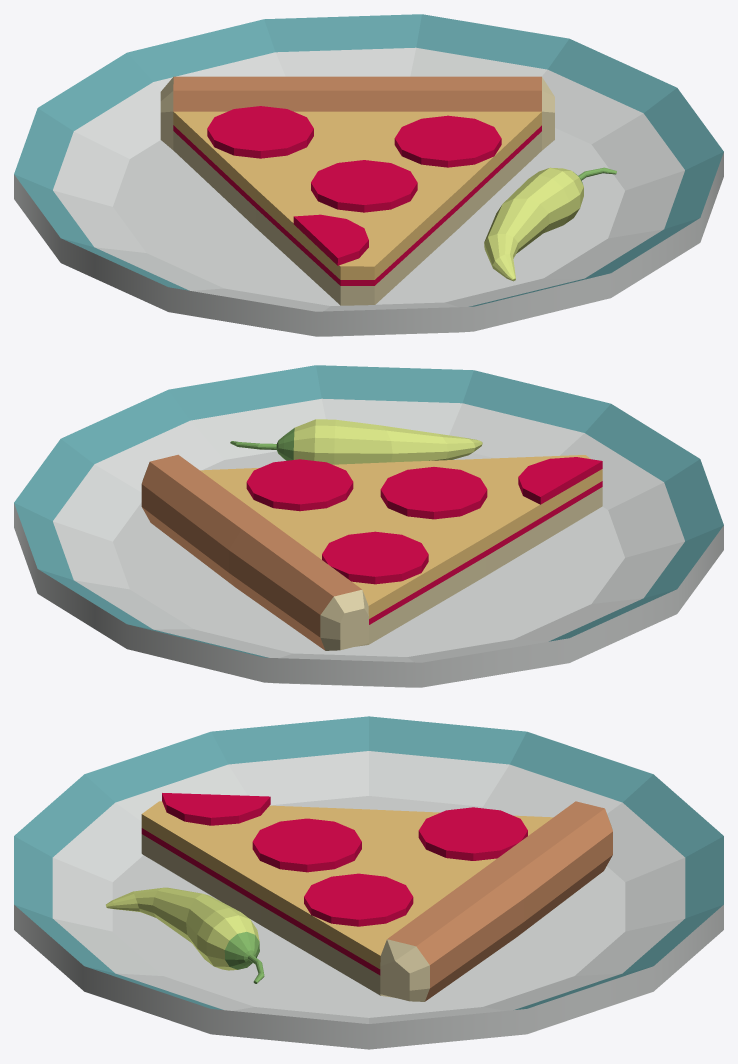
The model's file is pizza_fbx.fbx.
3 renders of one model, top to bottom at view 1: azimuth 30°, elevation 25°; view 2: azimuth 150°, elevation 25°; view 3: azimuth 270°, elevation 25°, orthographic. The views are drawn at different scales.
Visible parts, largest first — view 1: PperPlate1, pizzaBody, bananPepper1, pepperoniz6, pepperoniz5, pepperoniz4, pepperoniz7; view 2: PperPlate1, pizzaBody, bananPepper1, pepperoniz5, pepperoniz4, pepperoniz6, pepperoniz7; view 3: PperPlate1, pizzaBody, bananPepper1, pepperoniz5, pepperoniz4, pepperoniz6, pepperoniz7.
Boxes of the visible parts, bbox=[...] form: PperPlate1: bbox=[14, 14, 723, 336]; pizzaBody: bbox=[160, 76, 554, 305]; bananPepper1: bbox=[484, 167, 616, 281]; pepperoniz6: bbox=[207, 106, 313, 158]; pepperoniz5: bbox=[311, 160, 417, 212]; pepperoniz4: bbox=[394, 115, 501, 167]; pepperoniz7: bbox=[293, 214, 368, 265]; PperPlate1: bbox=[14, 365, 723, 687]; pizzaBody: bbox=[141, 454, 602, 650]; bananPepper1: bbox=[230, 419, 482, 464]; pepperoniz5: bbox=[380, 467, 487, 519]; pepperoniz4: bbox=[246, 459, 353, 511]; pepperoniz6: bbox=[322, 531, 428, 584]; pepperoniz7: bbox=[518, 457, 602, 504]; PperPlate1: bbox=[14, 716, 723, 1049]; pizzaBody: bbox=[141, 801, 612, 1001]; bananPepper1: bbox=[106, 887, 264, 983]; pepperoniz5: bbox=[252, 818, 361, 872]; pepperoniz4: bbox=[304, 873, 413, 926]; pepperoniz6: bbox=[418, 807, 527, 860]; pepperoniz7: bbox=[162, 793, 270, 825].
Bounding box in the file's own units: 16.87 × 1.71 × 16.45.
